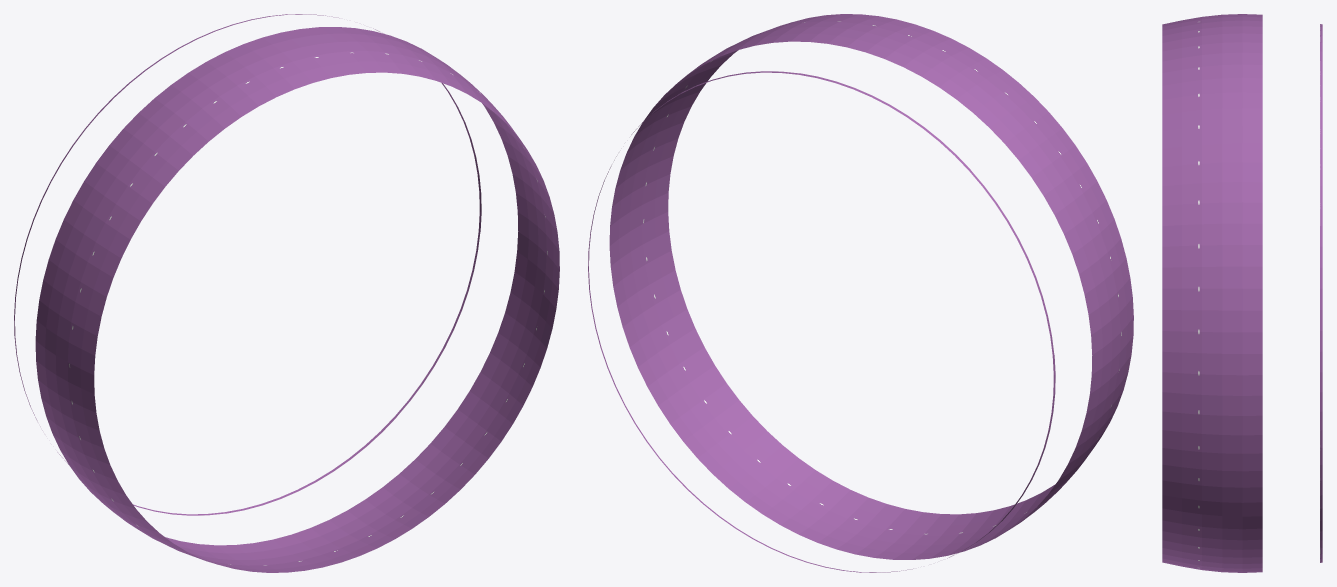
File: road_test05.fbx
The picture shows the model from 3 angles, left to right: view 1: azimuth 30°, elevation 25°; view 2: azimuth 150°, elevation 25°; view 3: azimuth 270°, elevation 25°; orthographic projection.
Visible parts, largest first — view 1: road_test04:headusOBJexport; view 2: road_test04:headusOBJexport; view 3: road_test04:headusOBJexport.
Boxes of the visible parts, left/top/right/bottom form: road_test04:headusOBJexport: left=14, top=14, right=559, bottom=572; road_test04:headusOBJexport: left=588, top=14, right=1133, bottom=572; road_test04:headusOBJexport: left=1162, top=14, right=1322, bottom=572.
Bounding box in the file's own units: 370 × 370 × 106.
